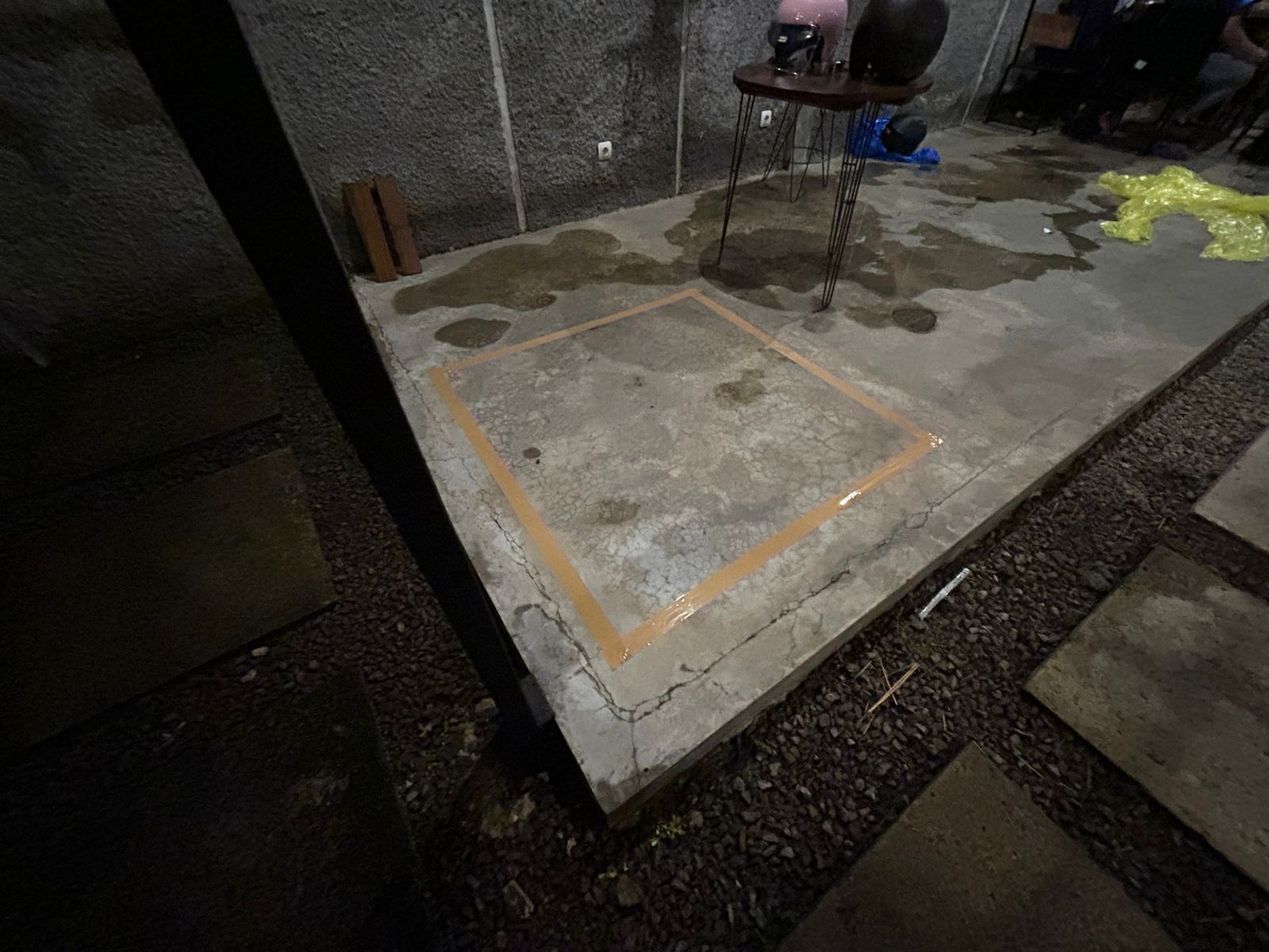floor marking: (429, 289, 940, 669)
